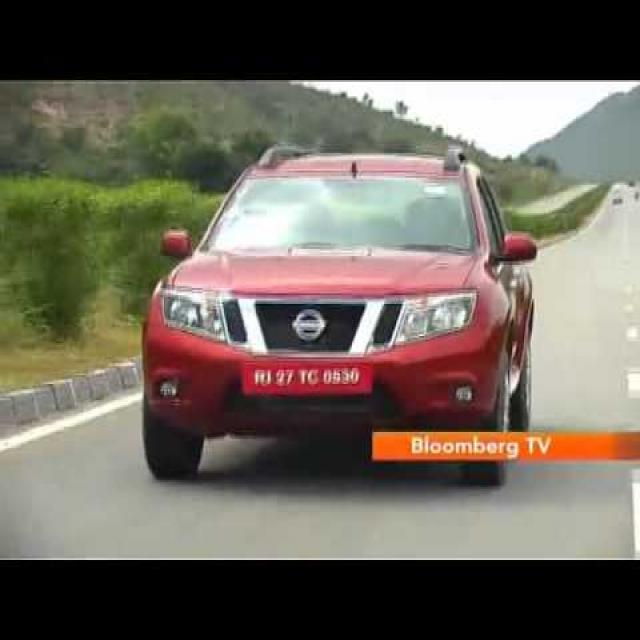license-plate: (240, 357, 373, 395)
